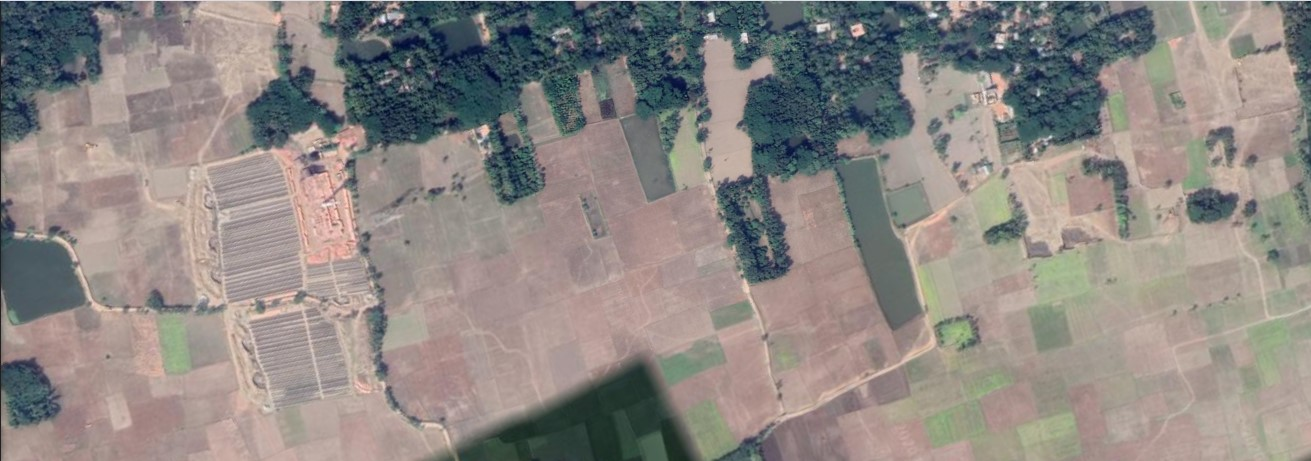kiln: (301, 160, 356, 260)
